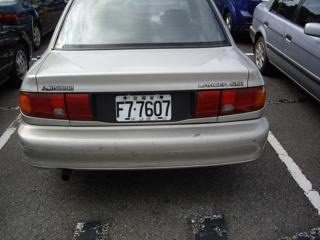plate: (113, 93, 172, 121)
